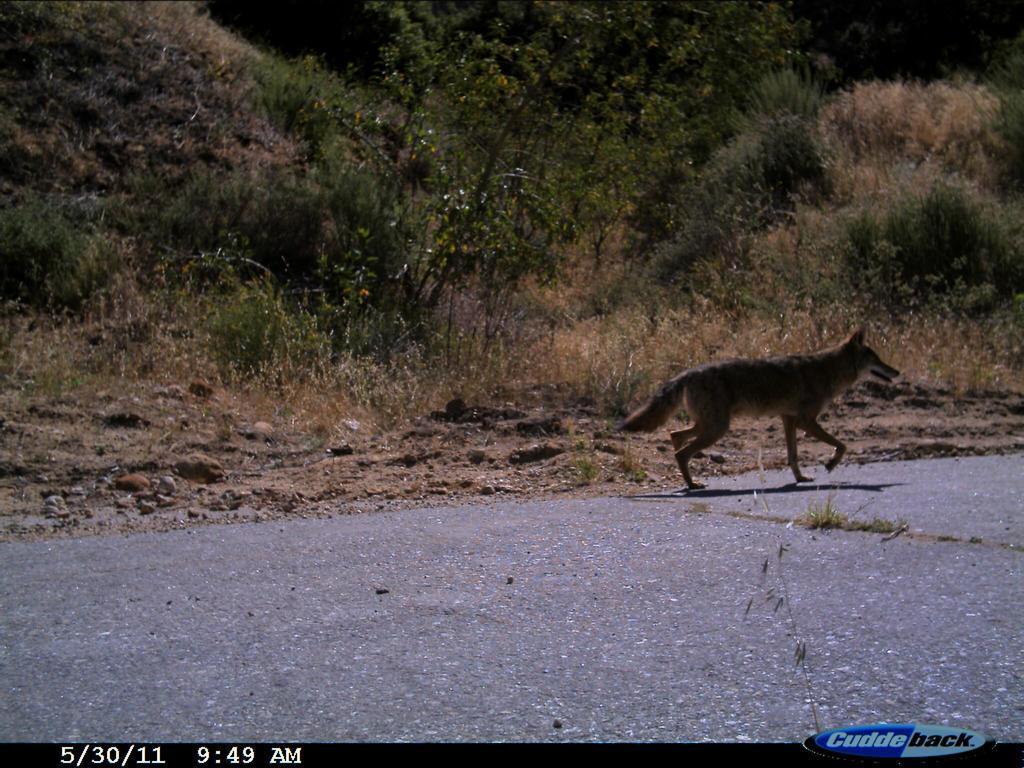coyote: (615, 306, 920, 504)
